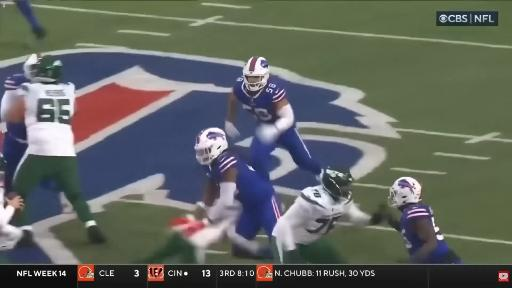Helmet: (195, 128, 227, 165), (321, 168, 353, 199), (388, 177, 421, 207), (243, 57, 269, 91), (33, 55, 62, 82), (23, 54, 38, 79), (257, 266, 272, 278), (79, 266, 93, 278)
Jersey: (280, 186, 360, 244), (18, 83, 75, 156), (204, 150, 274, 205), (400, 203, 449, 262), (233, 76, 285, 123), (4, 74, 29, 96)
Player: (6, 55, 105, 243), (225, 57, 322, 179), (195, 128, 280, 258), (273, 168, 386, 263), (388, 177, 461, 263), (135, 213, 237, 263), (0, 54, 38, 120), (0, 185, 23, 250), (14, 0, 46, 39)
